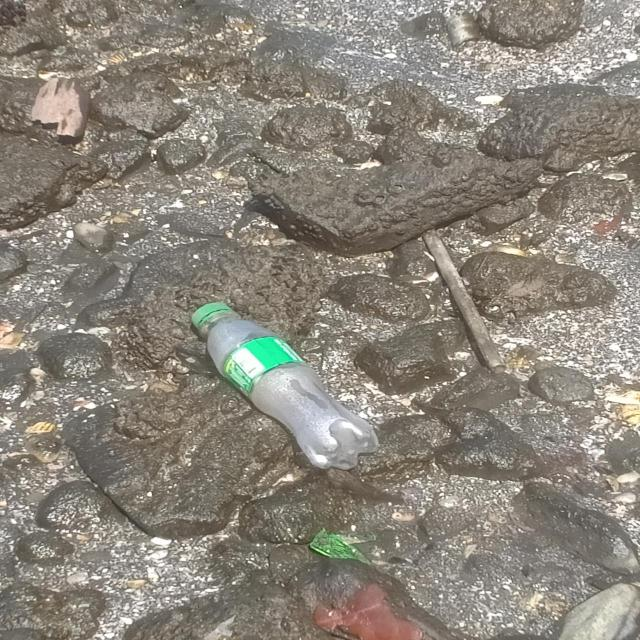plastic_waste: (192, 302, 381, 471), (310, 528, 374, 567)
